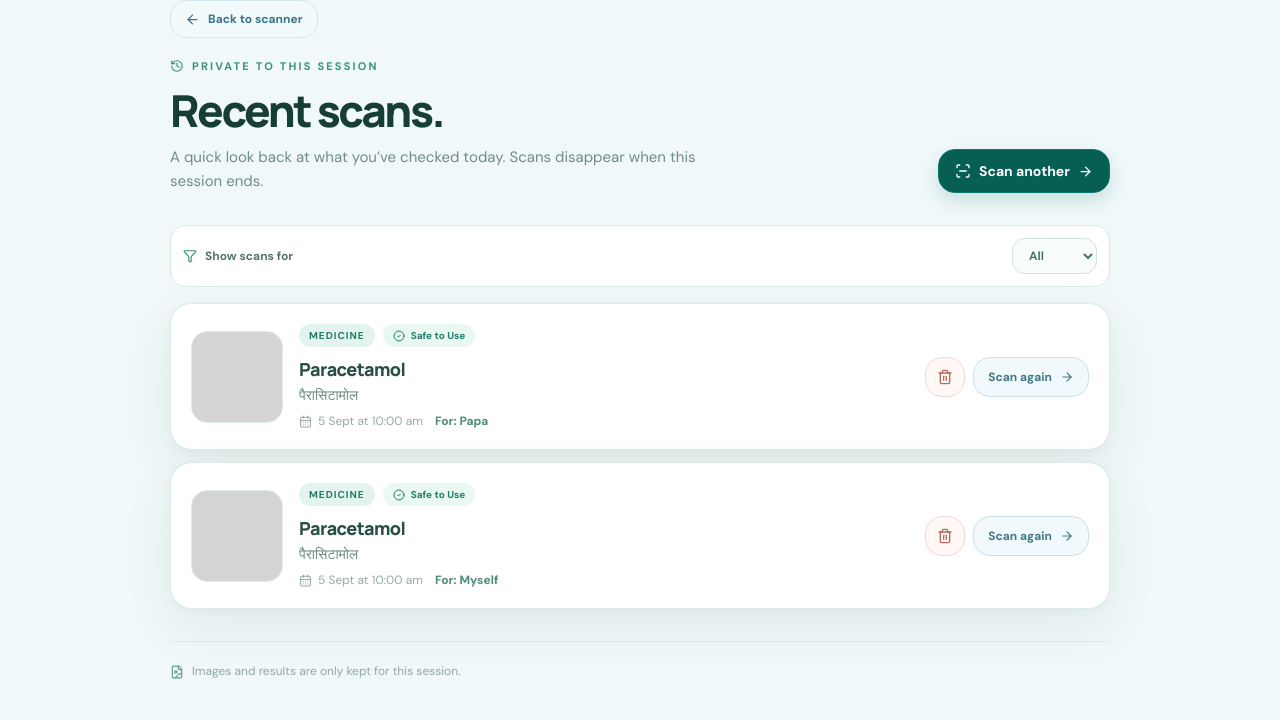
Test: new health assistant features › filters recent scans by family member
Expected: the text "For: Papa" is shown, 435,413 -> 488,429
Select "Papa" in the dropdown with test id "select-history-family-filter" at (1054, 256), box 1012,238 -> 1097,274
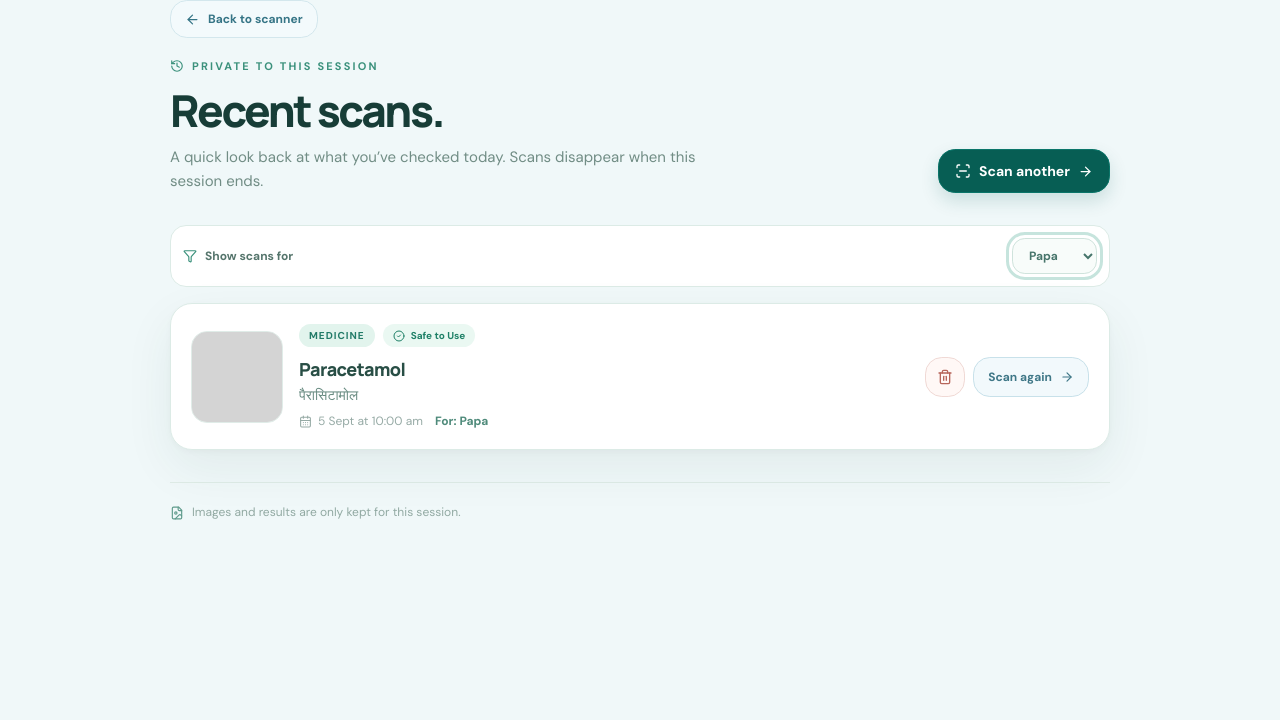
Expected: the element with test id "card-history-scan-papa" is shown, 170,303 -> 1110,450
Result: the element with test id "card-history-scan-myself" is gone
